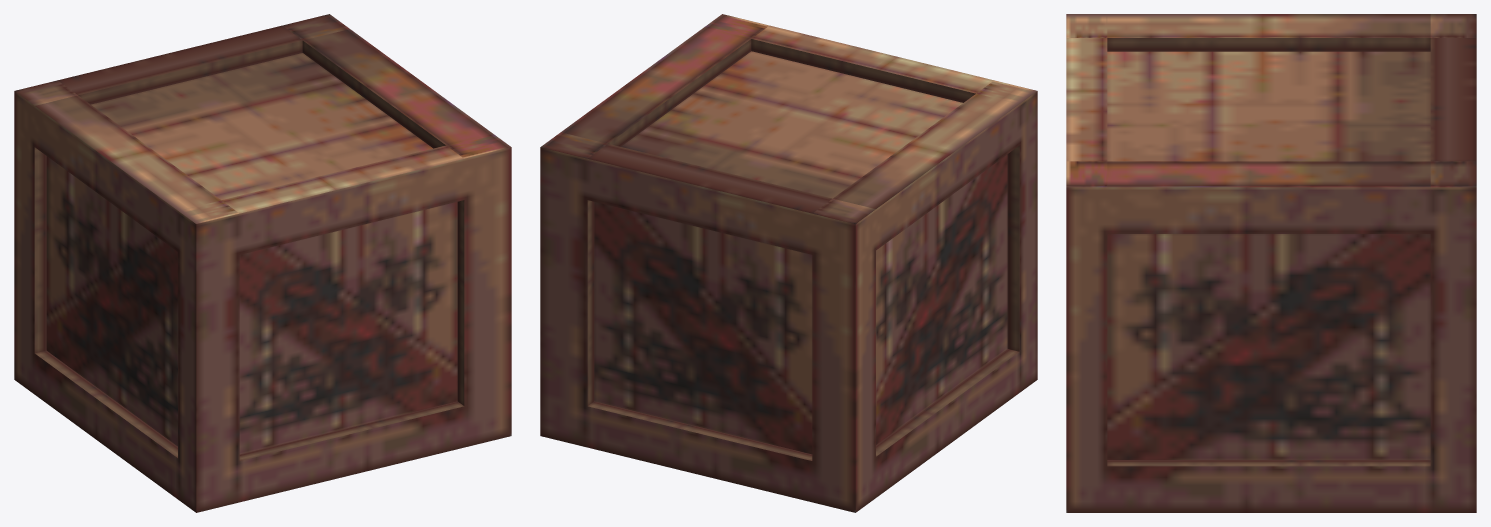
The model's file is Poly_SF_Outside_B_Crate_02.obj.
The picture shows the model from 3 angles, left to right: view 1: azimuth 30°, elevation 25°; view 2: azimuth 150°, elevation 25°; view 3: azimuth 270°, elevation 25°; orthographic projection. The views are drawn at different scales.
Visible parts, largest first — view 1: Cube.001; view 2: Cube.001; view 3: Cube.001.
Part boxes in pixels (x1=…): Cube.001: x1=14, y1=14, x2=511, y2=512; Cube.001: x1=540, y1=14, x2=1037, y2=512; Cube.001: x1=1066, y1=14, x2=1476, y2=512.
Size of the model in its own units: 0.8 by 0.7 by 0.8.
1 material, 1 textured.
